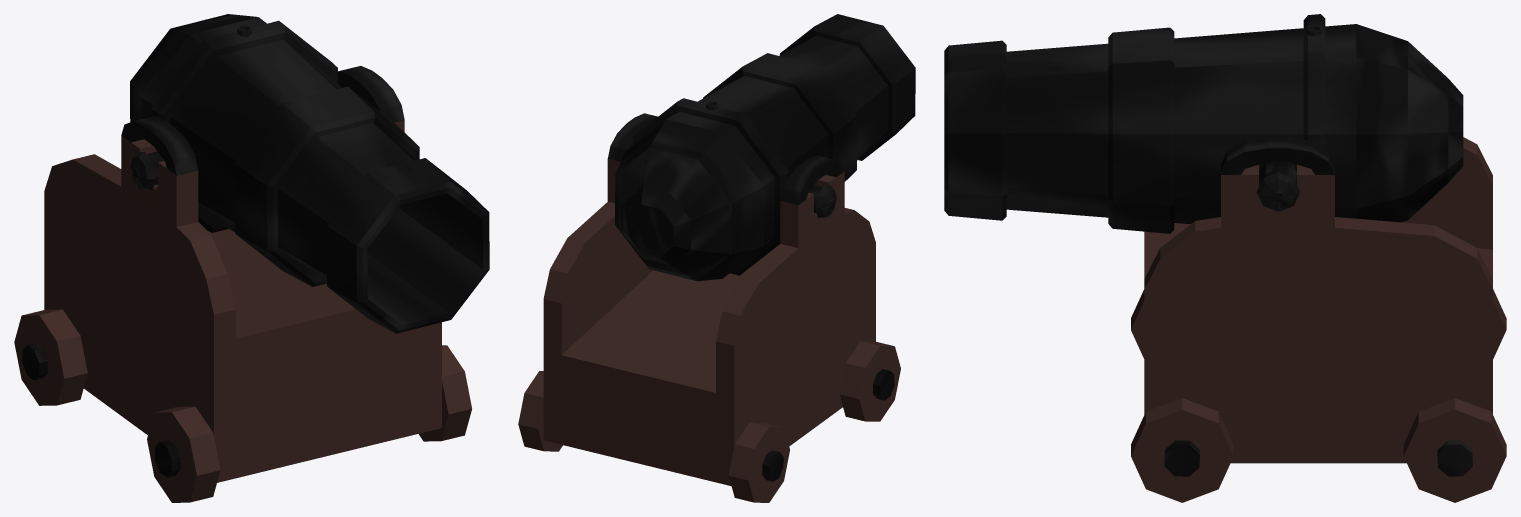
The model's file is Cannon.fbx.
The picture shows the model from 3 angles, left to right: view 1: azimuth 30°, elevation 25°; view 2: azimuth 150°, elevation 25°; view 3: azimuth 270°, elevation 25°; orthographic projection. The views are drawn at different scales.
Visible parts, largest first — view 1: buggy, Cannon, Metal, Wheels.003, Wheels.004, Wheels.001; view 2: buggy, Cannon, Metal, Wheels.003, Wheels.004, Wheels.002; view 3: Cannon, buggy, Wheels.002, Wheels.001, Metal, Wheels.004.
Part boxes in pixels (x1=…): buggy: x1=44, y1=120, x2=441, y2=482; Cannon: x1=130, y1=14, x2=489, y2=333; Metal: x1=22, y1=66, x2=404, y2=477; Wheels.003: x1=14, y1=309, x2=87, y2=405; Wheels.004: x1=147, y1=406, x2=220, y2=502; Wheels.001: x1=419, y1=345, x2=471, y2=441; buggy: x1=543, y1=159, x2=875, y2=486; Cannon: x1=615, y1=14, x2=915, y2=281; Metal: x1=608, y1=113, x2=894, y2=481; Wheels.003: x1=728, y1=422, x2=789, y2=502; Wheels.004: x1=839, y1=341, x2=900, y2=421; Wheels.002: x1=518, y1=371, x2=562, y2=451; Cannon: x1=944, y1=14, x2=1463, y2=233; buggy: x1=1144, y1=137, x2=1492, y2=463; Wheels.002: x1=1403, y1=398, x2=1506, y2=502; Wheels.001: x1=1131, y1=398, x2=1233, y2=502; Metal: x1=1164, y1=137, x2=1472, y2=476; Wheels.004: x1=1131, y1=289, x2=1144, y2=358.
Bounding box in the file's own units: 325 × 419 × 527.
